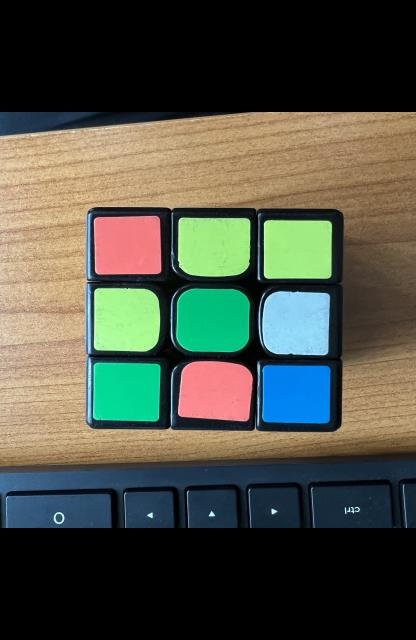Blue: (262, 366, 329, 424)
Green: (176, 289, 249, 352), (92, 362, 159, 422)
Orange: (177, 361, 252, 421), (93, 216, 160, 274)
White: (262, 292, 329, 356)
Yellow: (177, 218, 249, 277), (93, 289, 159, 351), (263, 220, 332, 279)
